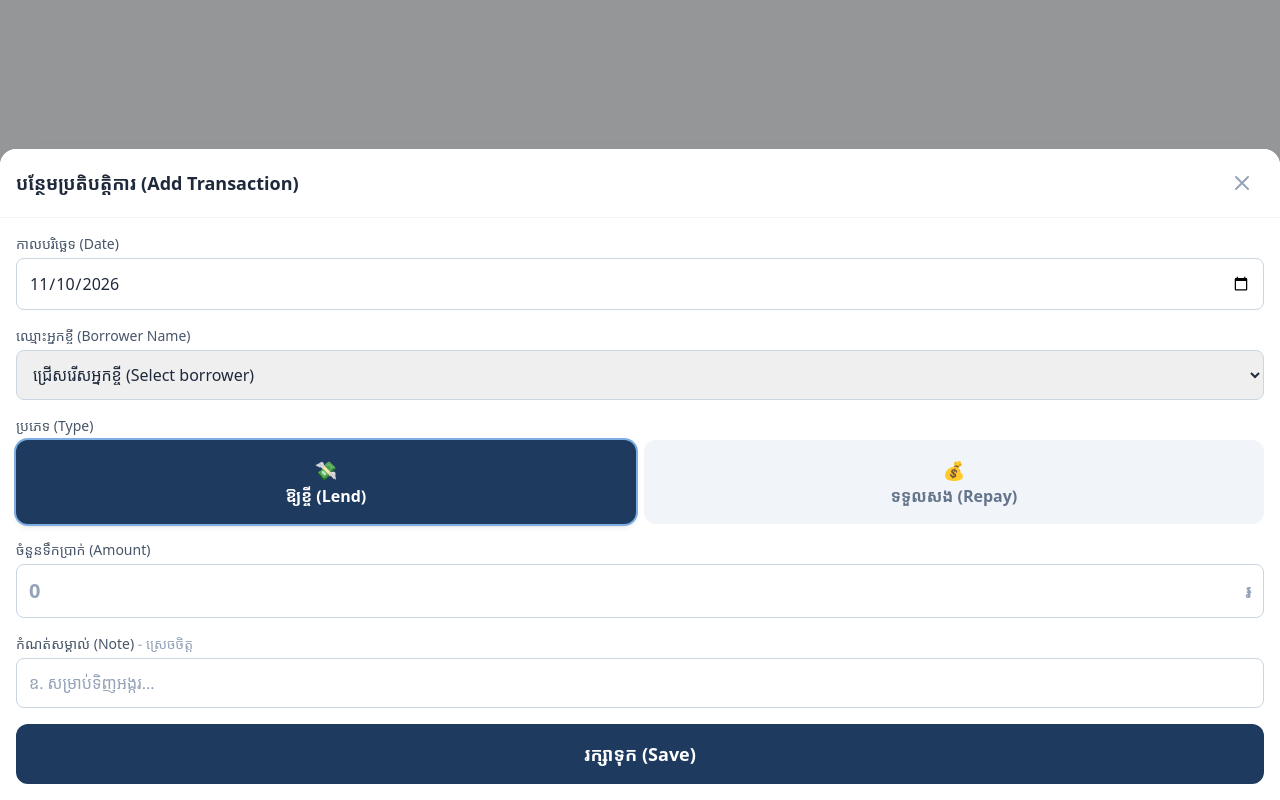
Scenario: Integration Test: TransactionForm User Interactions & Safety Gates › formats numeric inputs with thousands separator in real time
The width and height of the screenshot is (1280, 800).
# Type 1500000
Step 1. Type "1500000" into the field labelled "ចំនួនទឹកប្រាក់ (Amount)" → (640,591), box [16,564,1264,618]
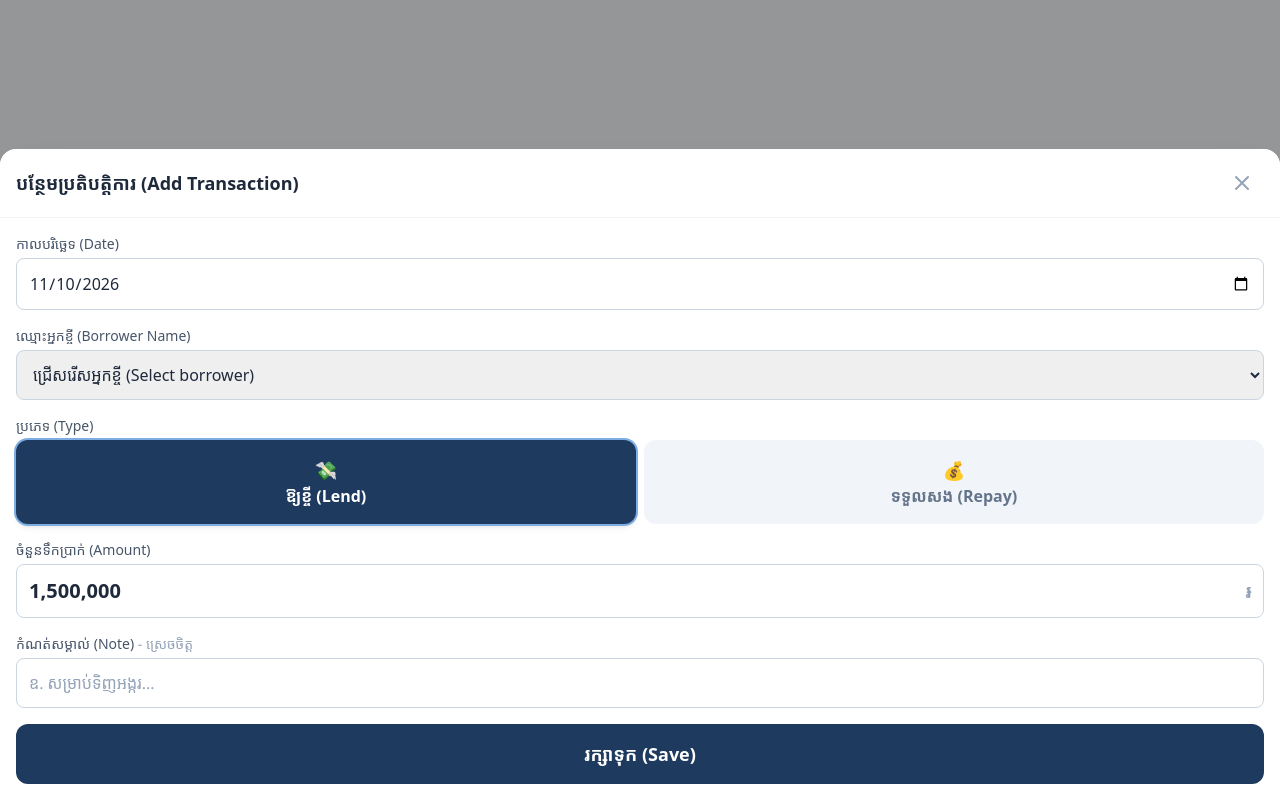
Check: the field labelled "ចំនួនទឹកប្រាក់ (Amount)" holds "1,500,000", box [16,564,1264,618]
